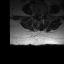CCS_normal: (39, 12, 41, 19)
LFS_stenosis: (43, 11, 45, 17)
LLS_normal: (41, 12, 43, 18)
RFS_normal: (36, 12, 38, 17)
RLS_normal: (38, 12, 39, 18)
